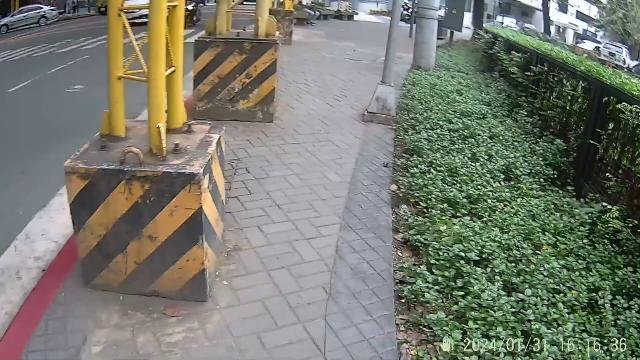construction_materials: (62, 0, 230, 306), (195, 0, 277, 128)
utility_post: (366, 0, 404, 126), (411, 1, 444, 72)
